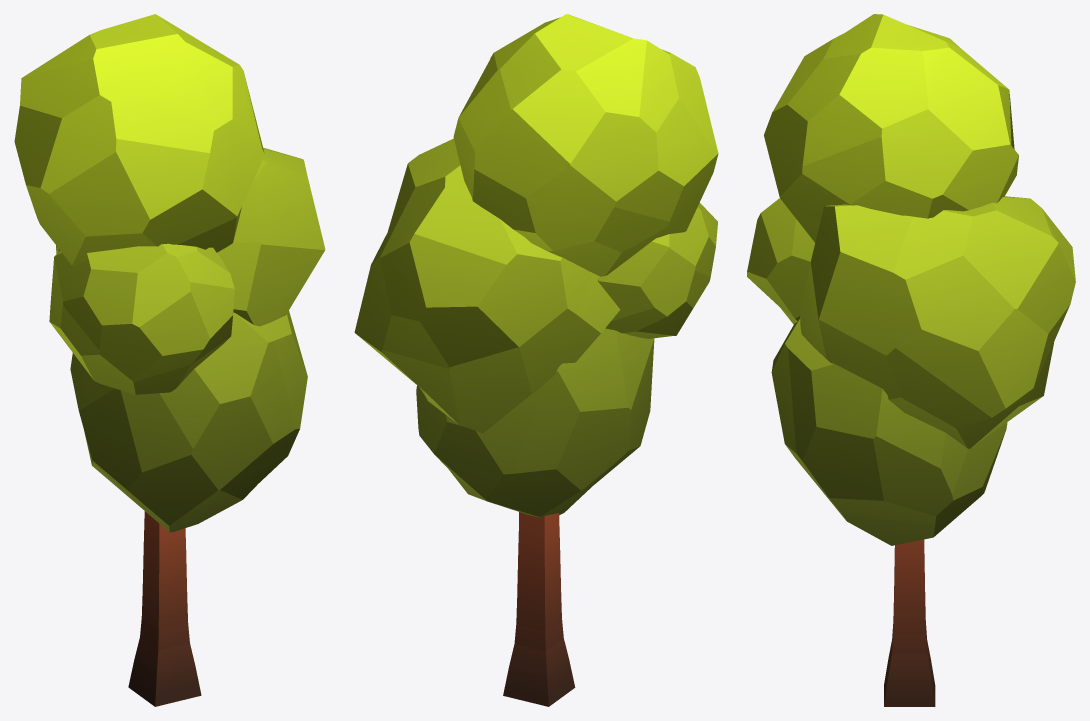
3 renders of one model, left to right at view 1: azimuth 30°, elevation 25°; view 2: azimuth 150°, elevation 25°; view 3: azimuth 270°, elevation 25°, orthographic. The views are drawn at different scales.
Parts seen in each view (by area): view 1: 8.001; view 2: 8.001; view 3: 8.001.
Boxes of the visible parts, x1,y1,x2,y2 form: 8.001: (14, 14, 325, 706); 8.001: (354, 14, 718, 706); 8.001: (747, 14, 1075, 706).
Bounding box in the file's own units: 2.41 × 5.32 × 2.46.
1 material, 1 textured.
